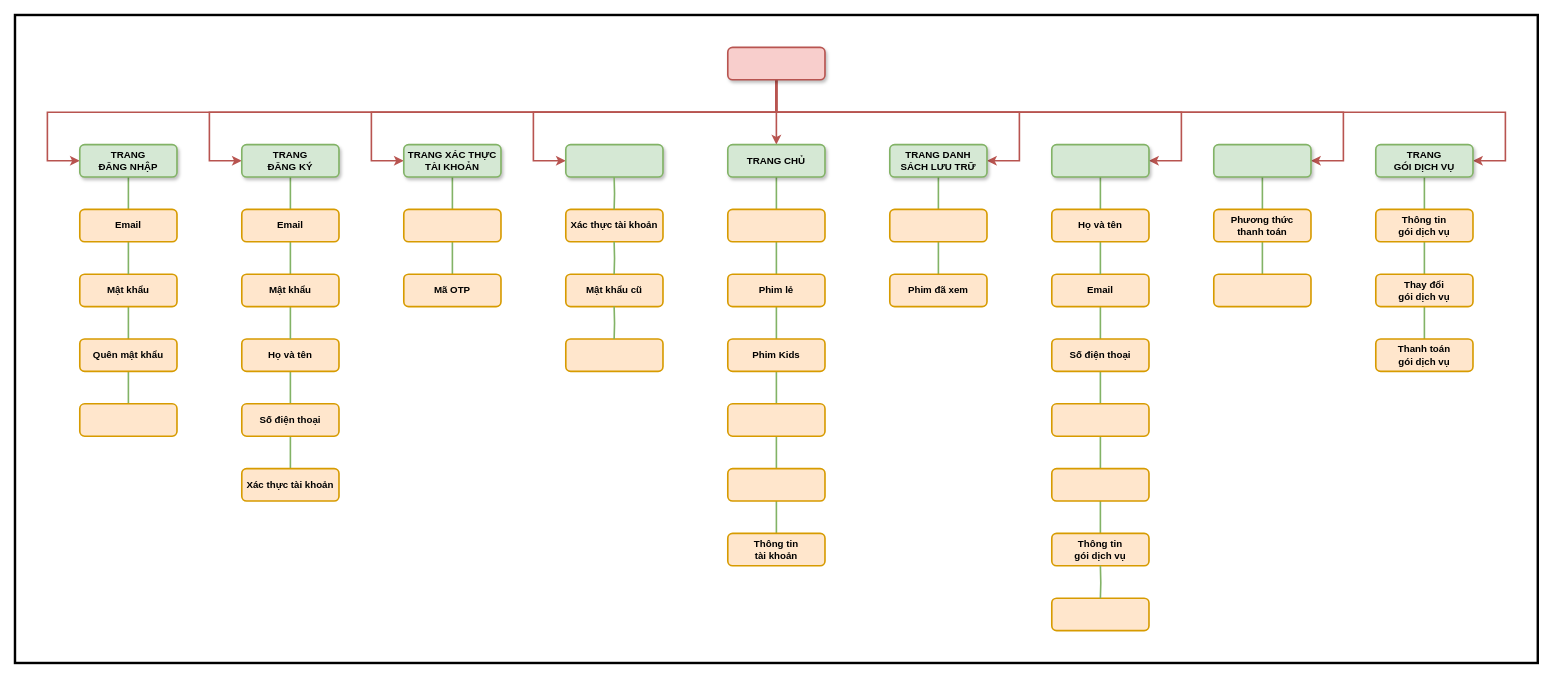
Some shapes in this 1553 by 678 pixel diagram are drawn without their labels. The shapes that lost their labels are listed below. From the top down, each one's centre as x and y in pixels, then its label:
At (776,64): "APP XEM PHIM".
At (614,161): "TRANG THAY ĐỔI MẬT KHẨU".
At (1100,161): "TRANG TÀI KHOẢN".
At (1262,161): "TRANG THANH TOÁN".
At (452,225): "Emai".
At (776,225): "Phim bộ".
At (938,225): "Phim yêu thích".
At (1262,290): "Lịch sử thanh toán".
At (614,355): "Mật khẩu mới".
At (128,420): "Đăng ký".
At (776,420): "Mục tìm kiếm (thể loại / tên phim)".
At (1100,420): "Thay đổi mật khẩu".
At (776,484): "Danh sách lưu trữ bộ phim".
At (1100,484): "Thông tin thanh toán".
At (1100,614): "Đăng xuất".
